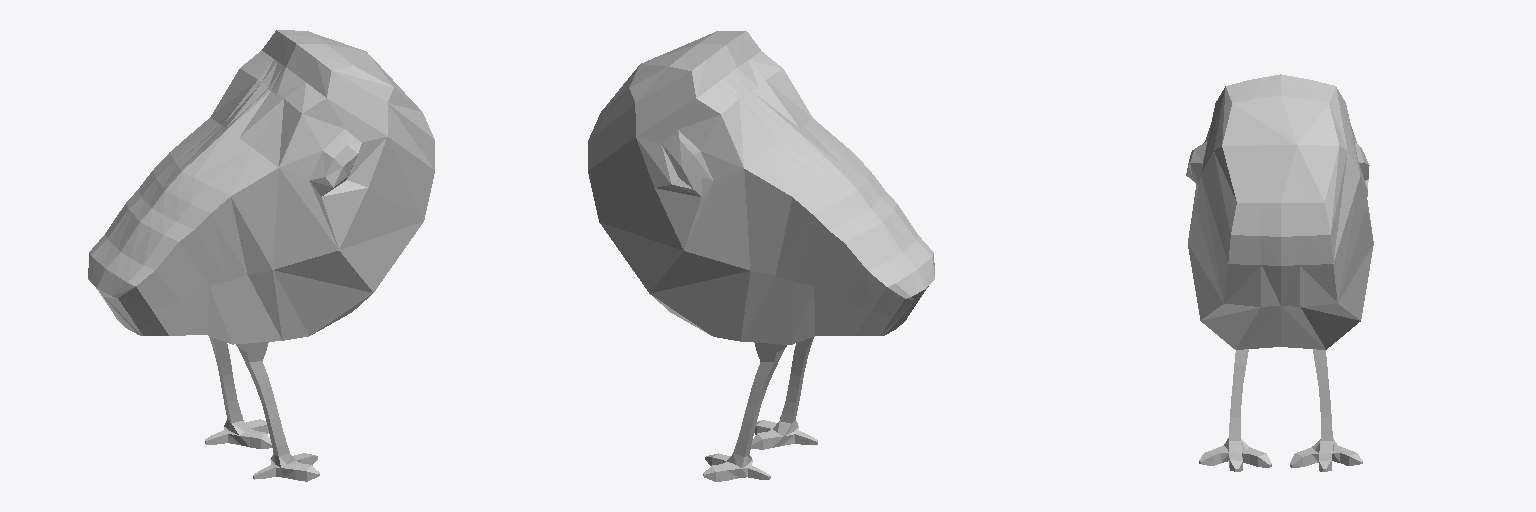
File: Bird_Body+LegsOnly.obj
3 views of the same model, side by side, from view 1: azimuth 30°, elevation 25°; view 2: azimuth 150°, elevation 25°; view 3: azimuth 270°, elevation 25° (orthographic).
Parts seen in each view (by area): view 1: Bird_Body_LegsOnly; view 2: Bird_Body_LegsOnly; view 3: Bird_Body_LegsOnly.
Part boxes in pixels (bbox=[...]): Bird_Body_LegsOnly: bbox=[88, 30, 434, 481]; Bird_Body_LegsOnly: bbox=[588, 31, 934, 481]; Bird_Body_LegsOnly: bbox=[1186, 74, 1373, 471].
Size of the model in its own units: 3.72 by 4.52 by 1.91.